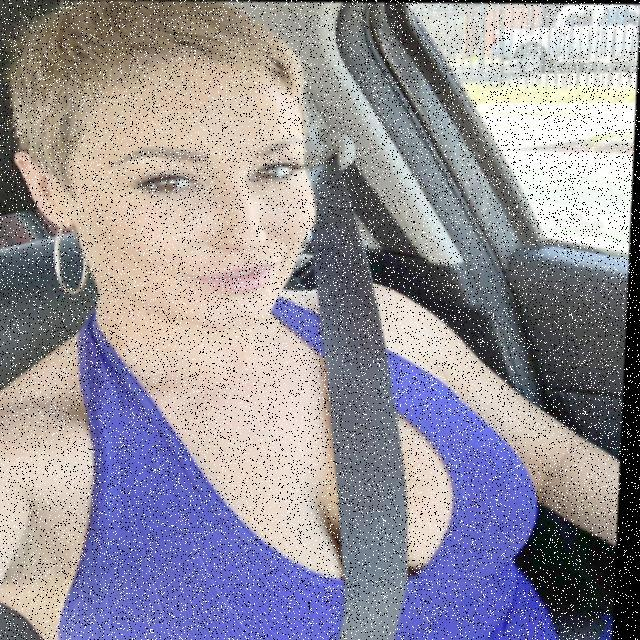seatbelt: (8, 274, 528, 640)
